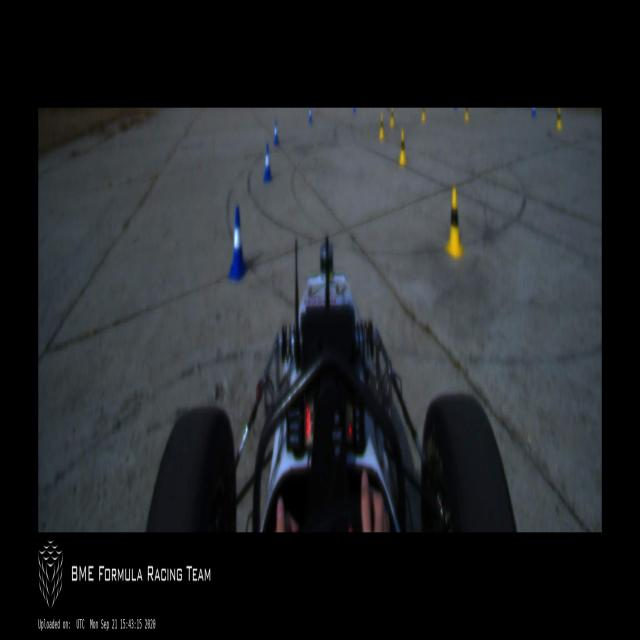blue_cone: (227, 204, 247, 284), (263, 143, 272, 183), (274, 120, 280, 148), (308, 108, 312, 123)
yellow_cone: (445, 186, 465, 260), (398, 130, 406, 167), (555, 109, 563, 132), (379, 114, 384, 140), (463, 108, 470, 121), (420, 109, 426, 124), (390, 109, 394, 128)
